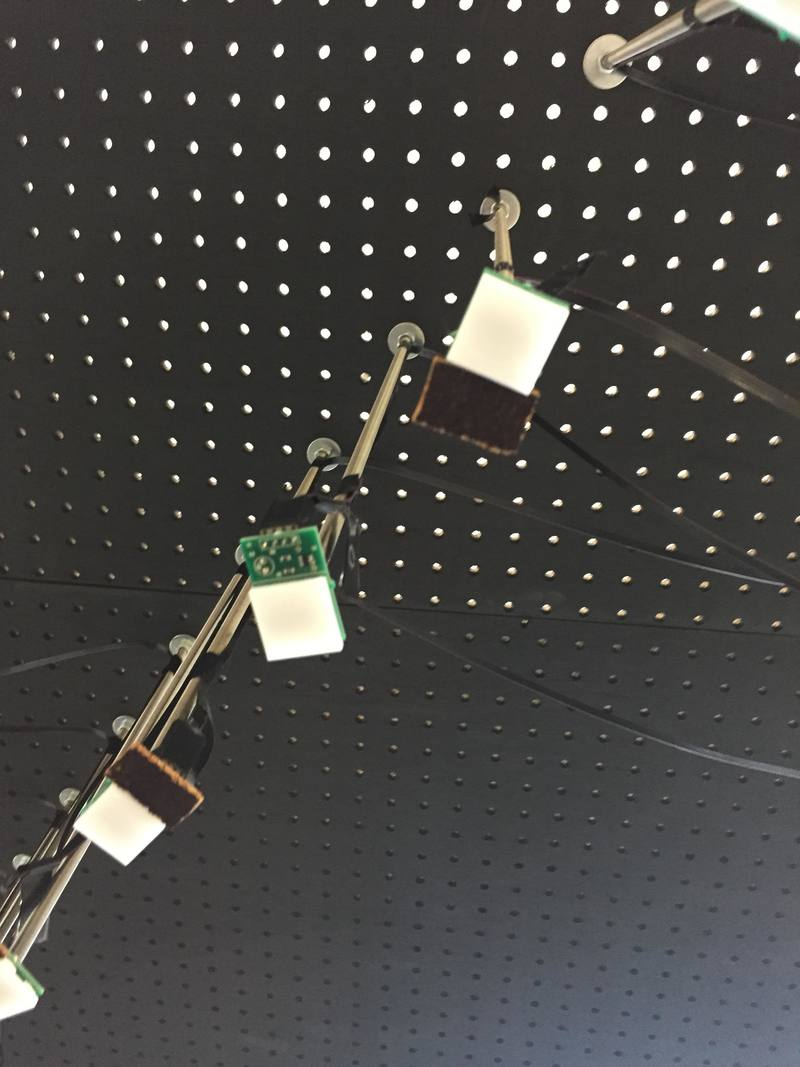target: (447, 265, 572, 400), (246, 575, 352, 667), (74, 776, 170, 874)
